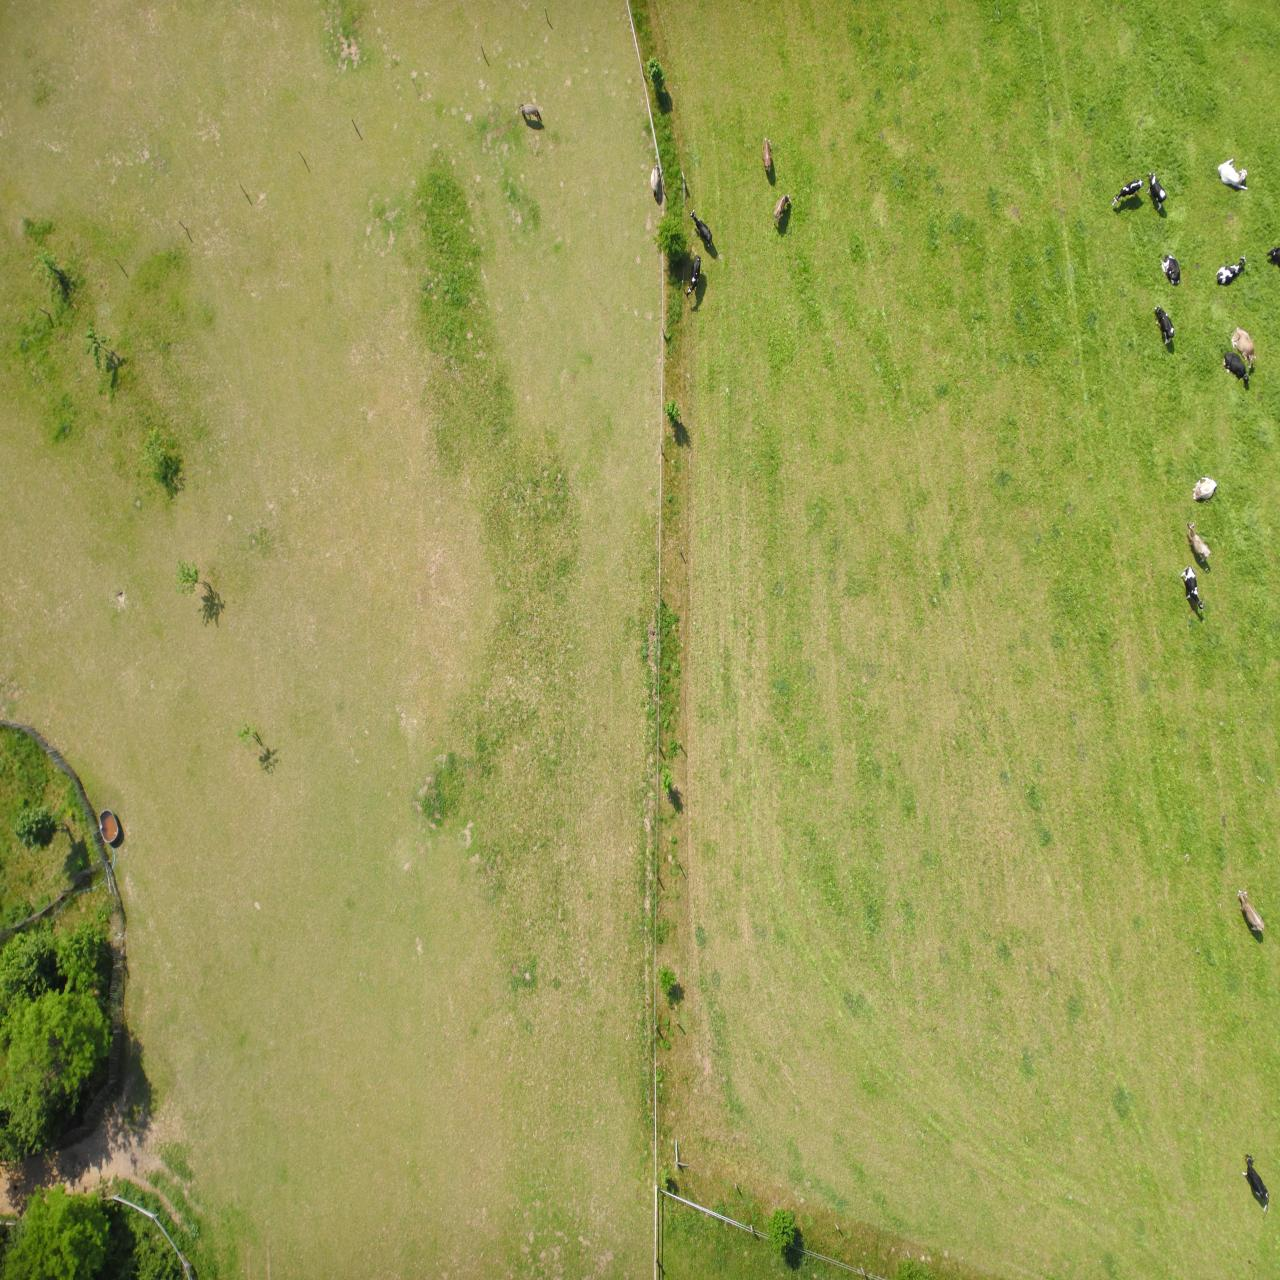cow: (11, 67, 38, 127), (15, 348, 42, 390), (23, 911, 48, 953), (69, 717, 94, 758), (76, 669, 98, 714), (32, 1089, 62, 1121), (135, 1073, 168, 1101), (29, 894, 56, 927), (34, 995, 63, 1024), (567, 1033, 590, 1070), (114, 1069, 134, 1108), (105, 933, 124, 974), (100, 994, 120, 1027), (489, 1054, 508, 1087), (579, 982, 593, 1024), (63, 779, 87, 803), (508, 1104, 517, 1143)
